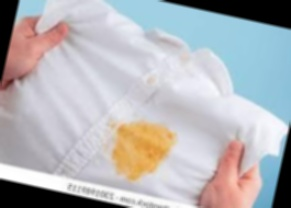mustard: (106, 116, 178, 187)
